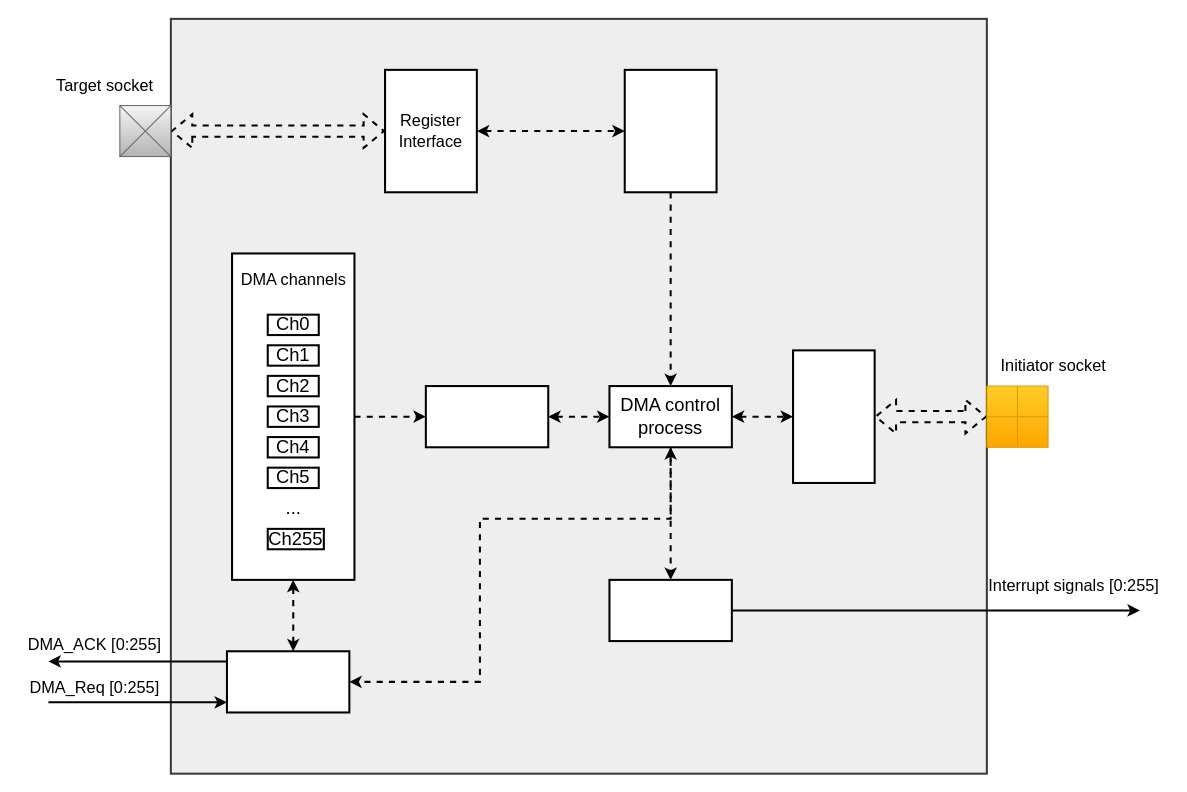
Image size: 1187x792. Some labels were removed from this diagram. The centre of each missing label's shape, as x and y in pixels:
DMA Register: the point at 670,130
DMA Request & ACK: the point at 287,681
Interrupt: the point at 670,610
Master Interface: the point at 833,416
Priority arbiter: the point at 486,416
